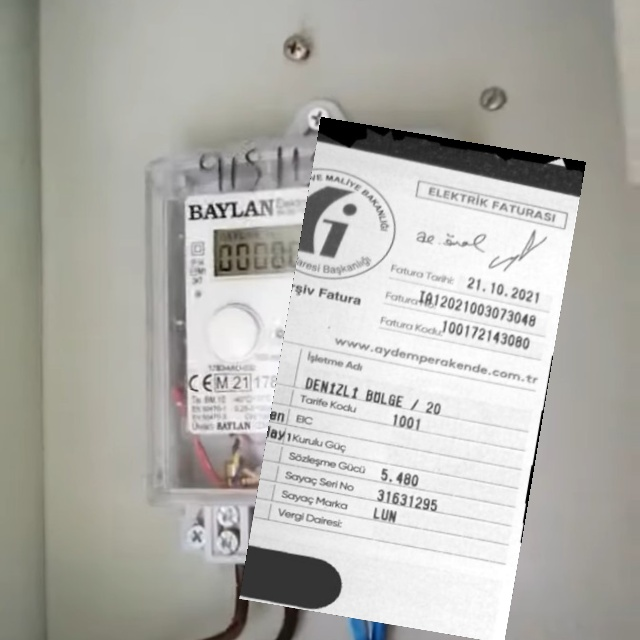electricity-bill: (238, 117, 586, 639)
